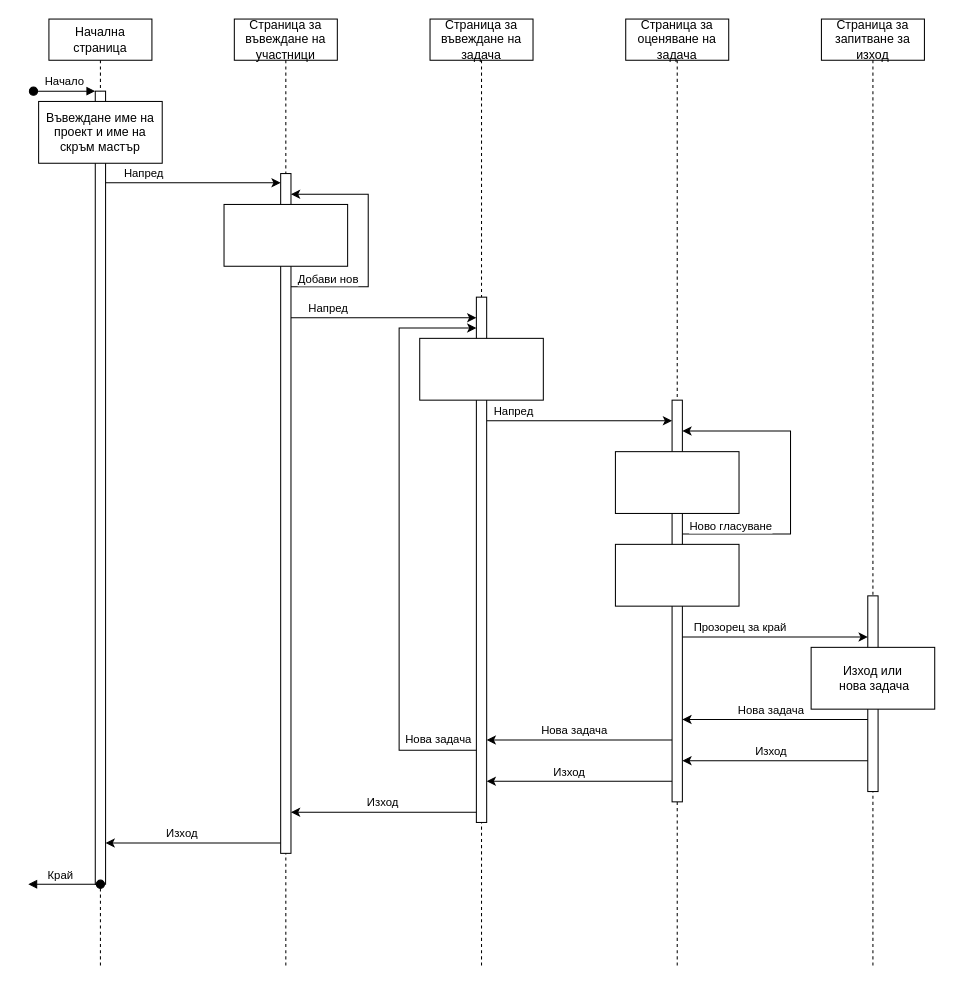
Image size: 953x985. Some labels were removed from this diagram. The centre of each missing label's shape, as x and y in pixels:
"Добавяне на участник" belongs at point (285, 234).
"Записване на данните на задачата" belongs at point (676, 574).
"Оценяване на задачата" belongs at point (676, 482).
"Създаване на нова задача" belongs at point (481, 368).
